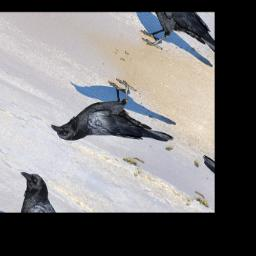Crow: (47, 62, 188, 186)
